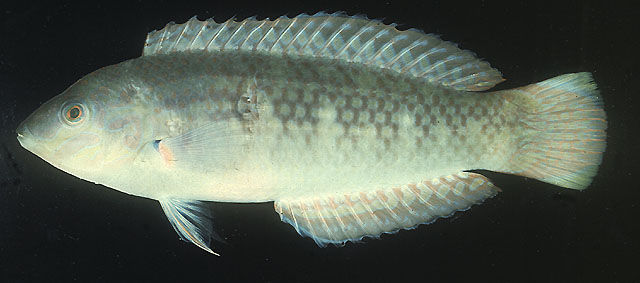fish: (15, 8, 608, 257)
